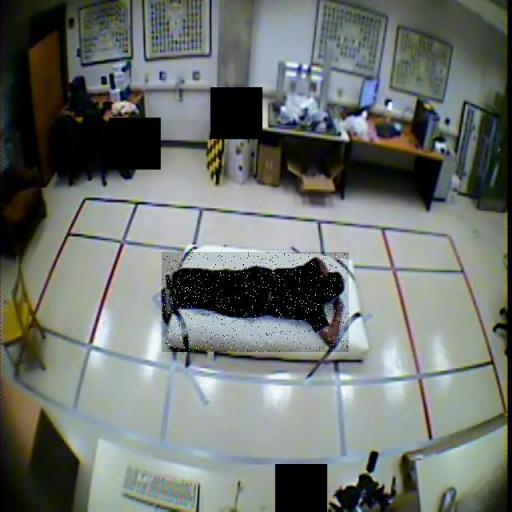Fall: (163, 252, 350, 352)
